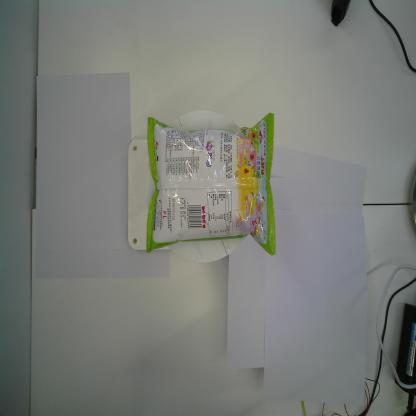Puffed Food: (146, 111, 276, 257)
